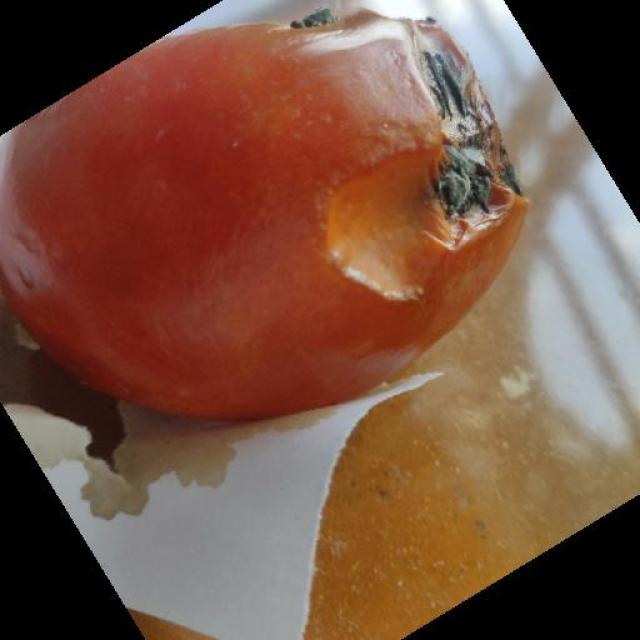Stale_tomato: (41, 26, 557, 461)
